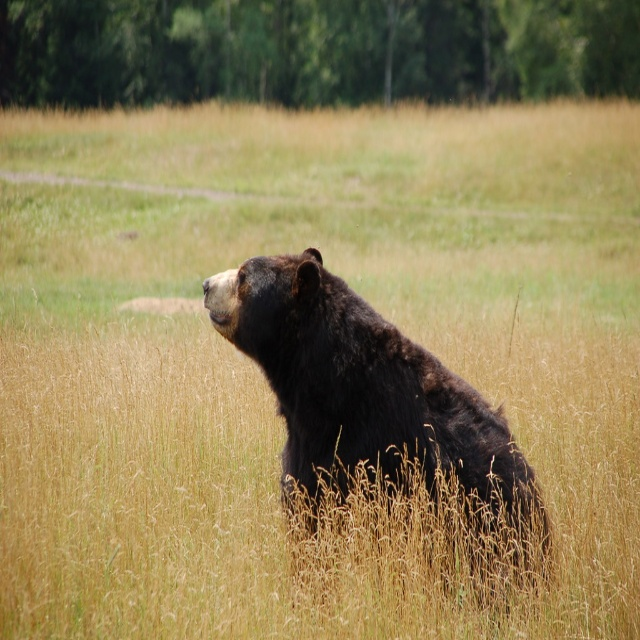Brown bear: (203, 247, 550, 637)
